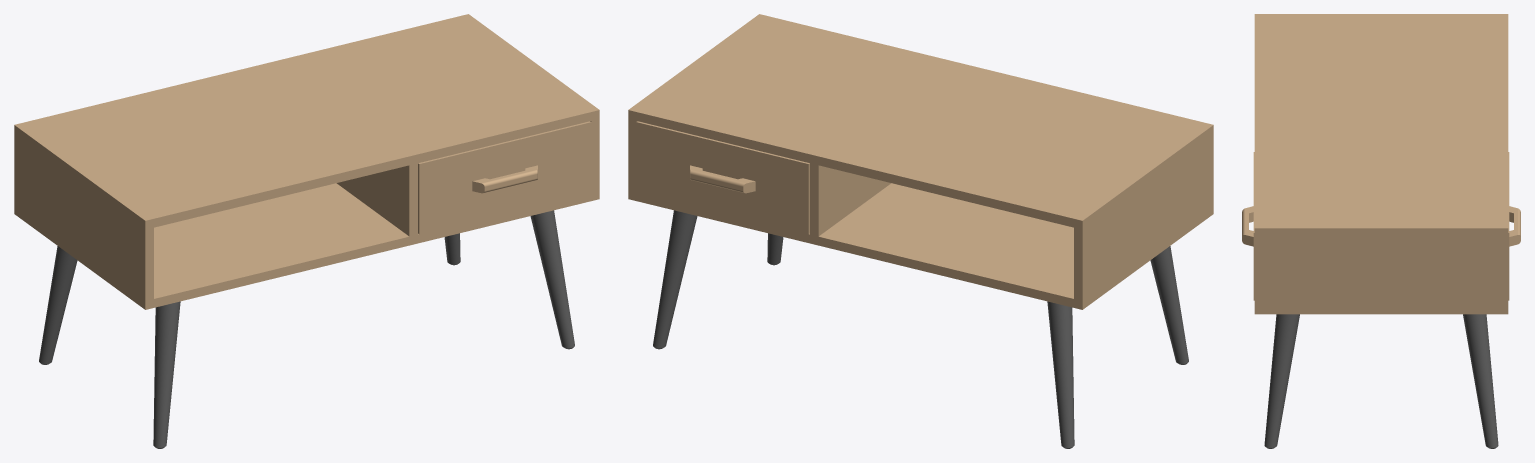
Rendered from 390_センターテーブル.glb.
The picture shows the model from 3 angles, left to right: view 1: azimuth 30°, elevation 25°; view 2: azimuth 150°, elevation 25°; view 3: azimuth 270°, elevation 25°; orthographic projection. The views are drawn at different scales.
Parts seen in each view (by area): view 1: 390_センターテーブル, 引き出し; view 2: 390_センターテーブル, 引き出し; view 3: 390_センターテーブル, 引き出し.
Boxes of the visible parts, x1,y1,x2,y2 form: 390_センターテーブル: (14,14,599,448); 引き出し: (418,121,591,234); 390_センターテーブル: (628,14,1213,448); 引き出し: (636,121,809,234); 390_センターテーブル: (1254,14,1508,448); 引き出し: (1242,152,1520,300).
Bounding box in the file's own units: 0.8 × 0.4 × 0.44.
